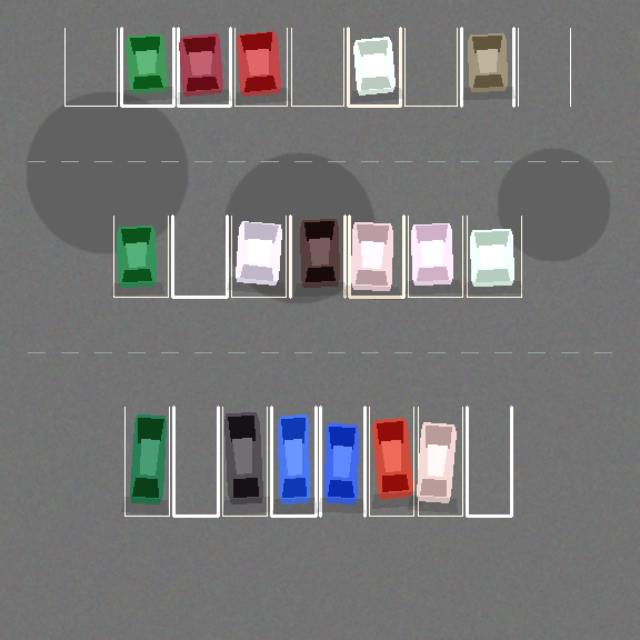space-empty: (173, 407, 218, 516), (467, 407, 511, 516), (172, 216, 227, 297), (64, 28, 117, 106), (404, 28, 457, 106), (291, 28, 343, 106), (518, 28, 570, 106)
space-occupied: (124, 407, 169, 516), (222, 407, 267, 516), (271, 407, 316, 516), (320, 407, 364, 516), (369, 407, 413, 516), (418, 407, 462, 516), (113, 216, 168, 297), (231, 216, 286, 297), (290, 216, 344, 297), (349, 216, 403, 297), (408, 216, 462, 297), (467, 216, 521, 297), (234, 28, 287, 106), (121, 28, 173, 106), (178, 28, 230, 106), (348, 28, 400, 106), (461, 28, 513, 106)
